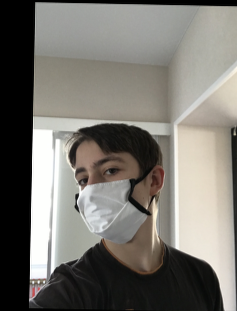with_mask: (73, 153, 150, 244)
